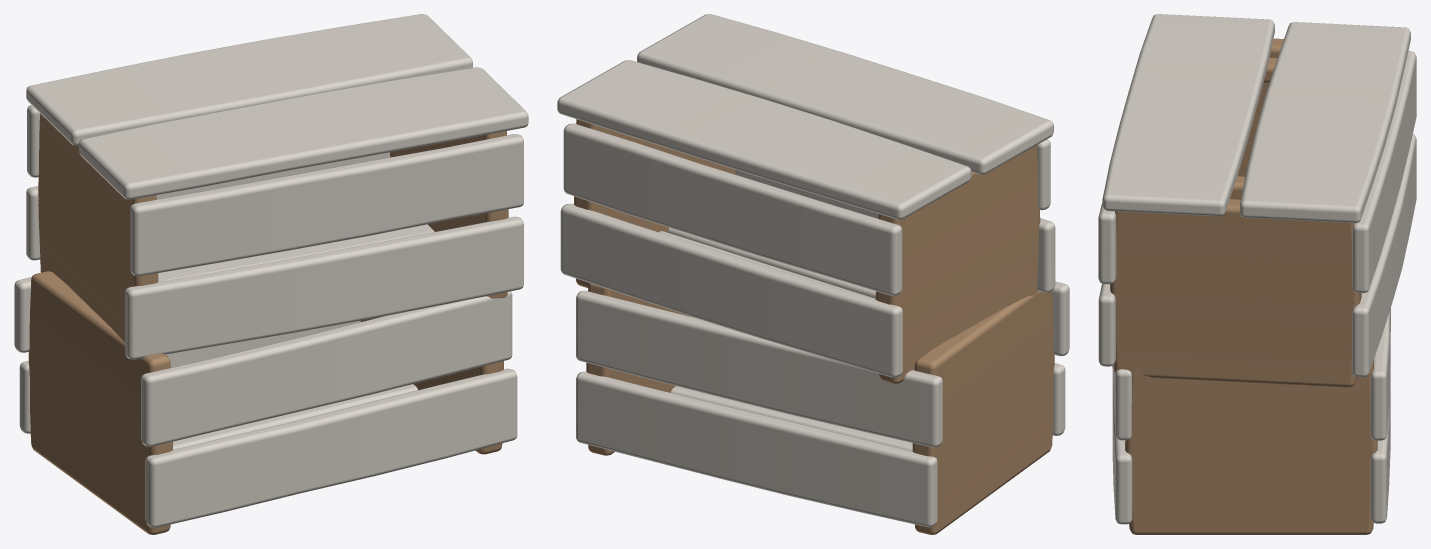
The model's file is pg_crate_3.glb.
3 views of the same model, side by side, from view 1: azimuth 30°, elevation 25°; view 2: azimuth 150°, elevation 25°; view 3: azimuth 270°, elevation 25° (orthographic).
Visible parts, largest first — view 1: pg_crate_3_pg_slat, pg_crate_3_timber; view 2: pg_crate_3_pg_slat, pg_crate_3_timber; view 3: pg_crate_3_timber, pg_crate_3_pg_slat.
Part boxes in pixels (box(x1,y1,x2,y2)): pg_crate_3_pg_slat: box(14, 14, 528, 527); pg_crate_3_timber: box(28, 113, 508, 534); pg_crate_3_pg_slat: box(557, 14, 1069, 527); pg_crate_3_timber: box(574, 119, 1054, 534); pg_crate_3_timber: box(1110, 38, 1377, 534); pg_crate_3_pg_slat: box(1098, 14, 1416, 524).
Size of the model in its own units: 0.8882 by 0.7336 by 0.6078.
